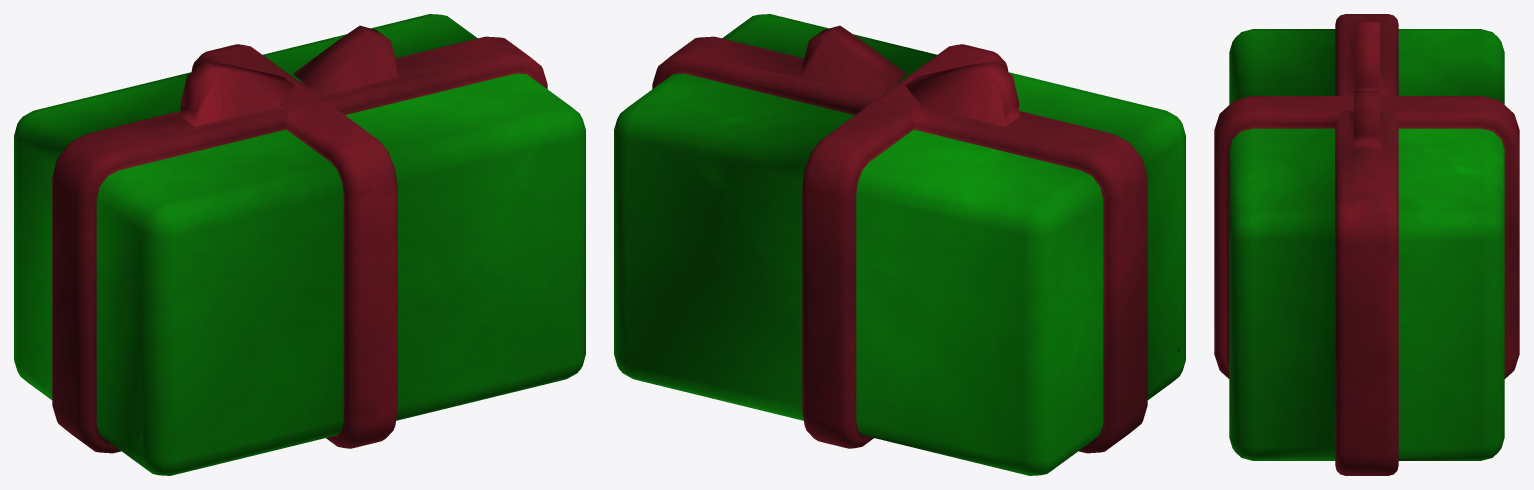
The model's file is Presente_G_Verde.fbx.
3 renders of one model, left to right at view 1: azimuth 30°, elevation 25°; view 2: azimuth 150°, elevation 25°; view 3: azimuth 270°, elevation 25°, orthographic. The views are drawn at different scales.
Visible parts, largest first — view 1: Presente_G_Verde; view 2: Presente_G_Verde; view 3: Presente_G_Verde.
Part boxes in pixels (bbox=[...]): Presente_G_Verde: bbox=[14, 14, 585, 475]; Presente_G_Verde: bbox=[614, 14, 1185, 475]; Presente_G_Verde: bbox=[1214, 14, 1519, 475].
Size of the model in its own units: 47.04 by 33.49 by 28.83.
Materials: 1 (1 with a texture image).
